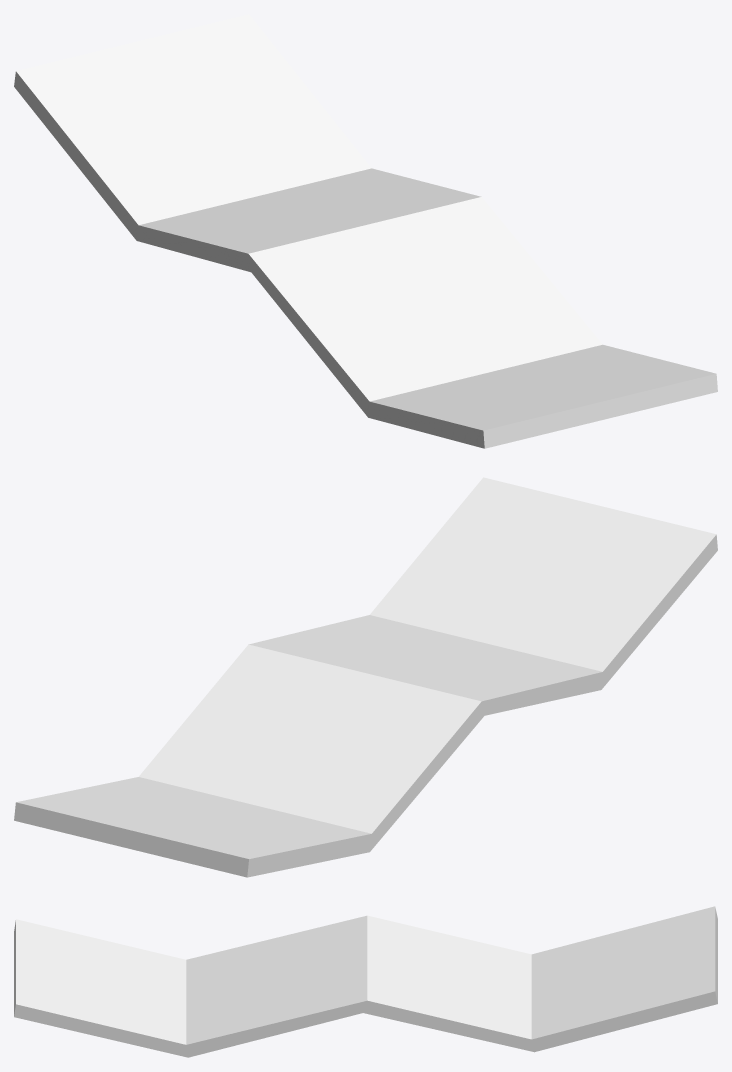
Rendered from BaconMade.fbx.
The picture shows the model from 3 angles, top to bottom: view 1: azimuth 30°, elevation 25°; view 2: azimuth 150°, elevation 25°; view 3: azimuth 270°, elevation 25°; orthographic projection. The views are drawn at different scales.
Parts seen in each view (by area): view 1: Bacon; view 2: Bacon; view 3: Bacon.
Boxes of the visible parts, x1,y1,x2,y2 form: Bacon: (14,14,717,448); Bacon: (14,477,717,877); Bacon: (14,906,717,1057).
Size of the model in its own units: 200 by 72.73 by 699.
